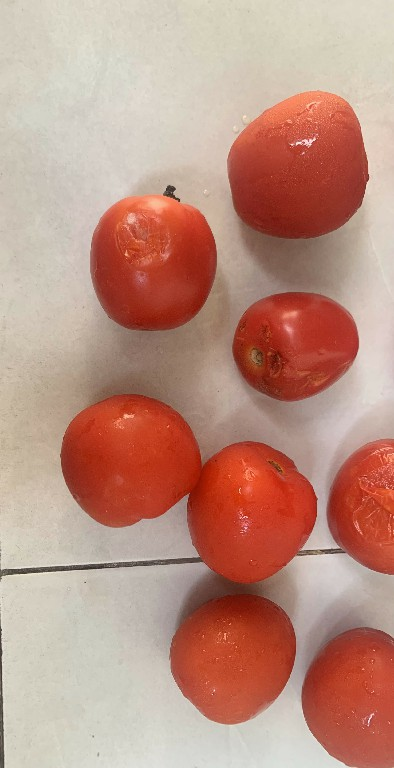NG: (79, 181, 223, 343), (225, 283, 365, 408), (324, 425, 394, 581)
OK: (218, 80, 376, 246), (43, 386, 206, 535), (179, 428, 327, 591), (159, 597, 307, 725), (292, 618, 394, 768)
